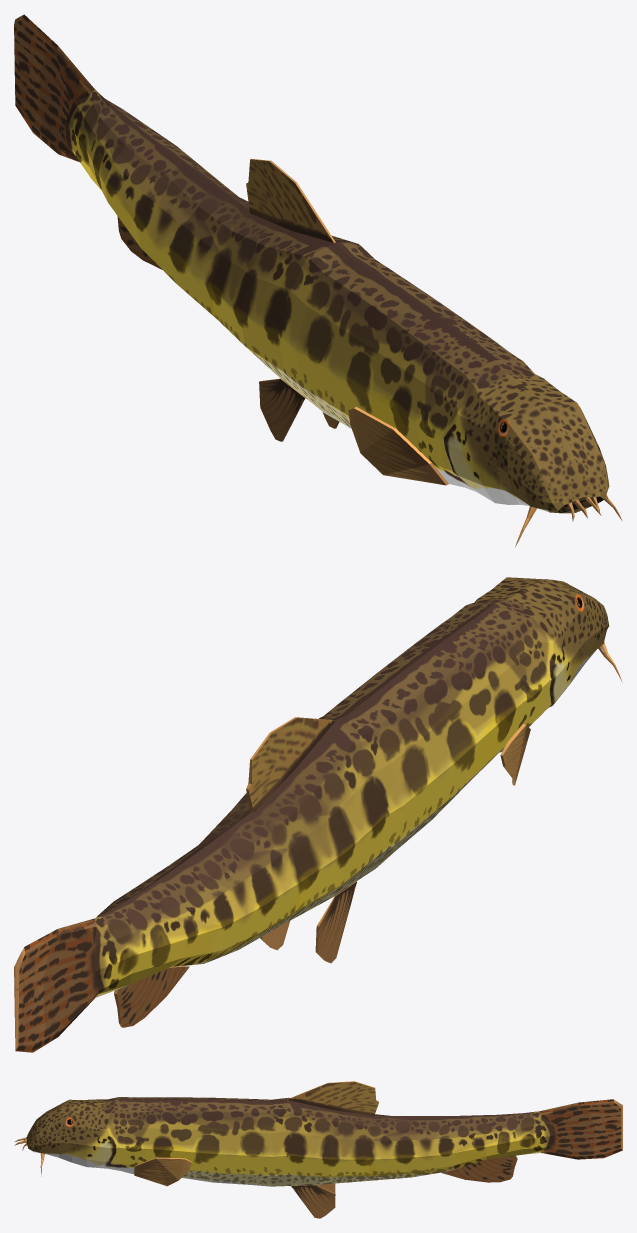
Rendered from Cobitis palúdica.fbx.
3 views of the same model, one above another, from view 1: azimuth 30°, elevation 25°; view 2: azimuth 150°, elevation 25°; view 3: azimuth 270°, elevation 25° (orthographic). The views are drawn at different scales.
Visible parts, largest first — view 1: Vert; view 2: Vert; view 3: Vert.
Part boxes in pixels (x1,y1,x2,y2): Vert: (14, 14, 622, 547); Vert: (14, 577, 622, 1052); Vert: (14, 1081, 622, 1218).
Bounding box in the file's own units: 72.83 × 110 × 467.
1 material, 1 textured.
